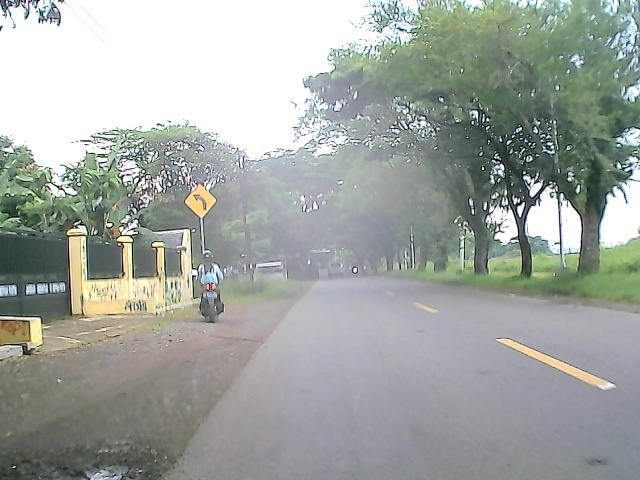Tikungan ke kiri: (181, 181, 218, 219)
